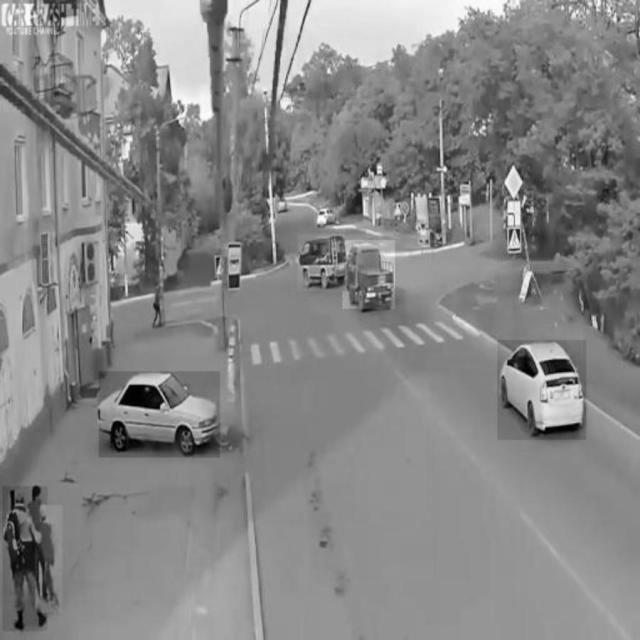person: (3, 487, 48, 631), (36, 506, 63, 614)
vehicle: (99, 372, 220, 458), (498, 340, 586, 440), (343, 240, 395, 308), (297, 234, 345, 291), (314, 202, 339, 226)
